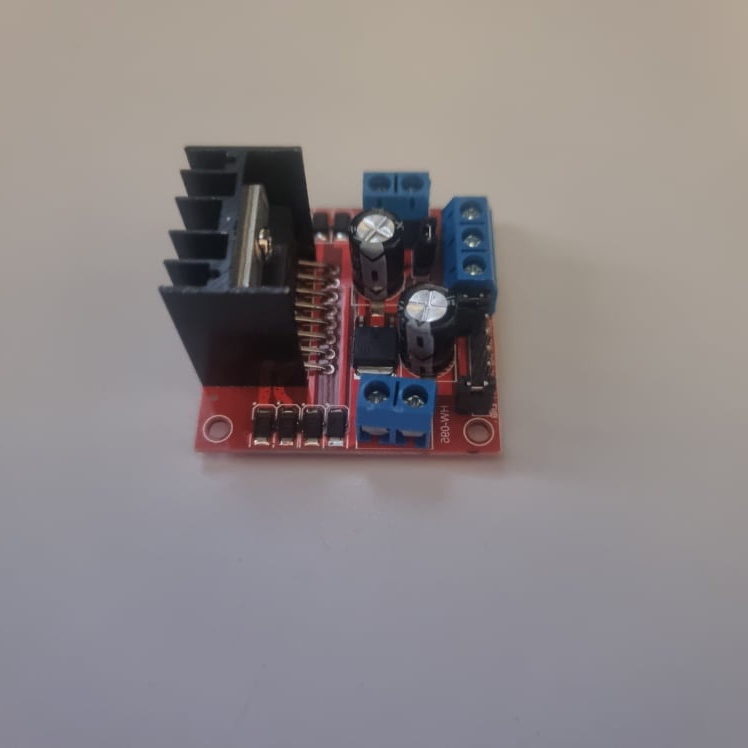MOTOR: (158, 142, 502, 457)
